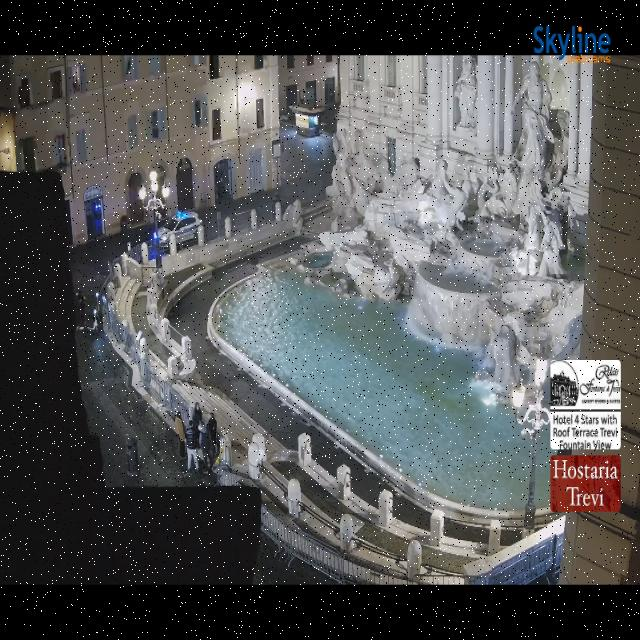person: (200, 422, 214, 472), (186, 420, 199, 471), (207, 413, 219, 456), (176, 412, 186, 459), (76, 290, 85, 328), (192, 403, 202, 427)
